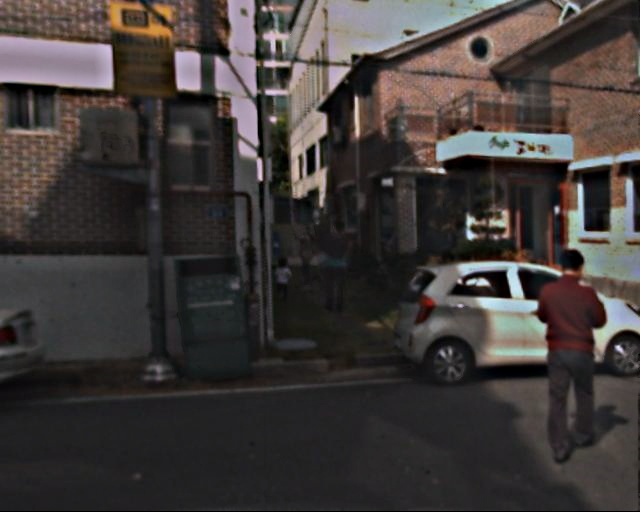person: (528, 249, 615, 457), (316, 218, 357, 318), (293, 223, 320, 291), (273, 256, 291, 298)
